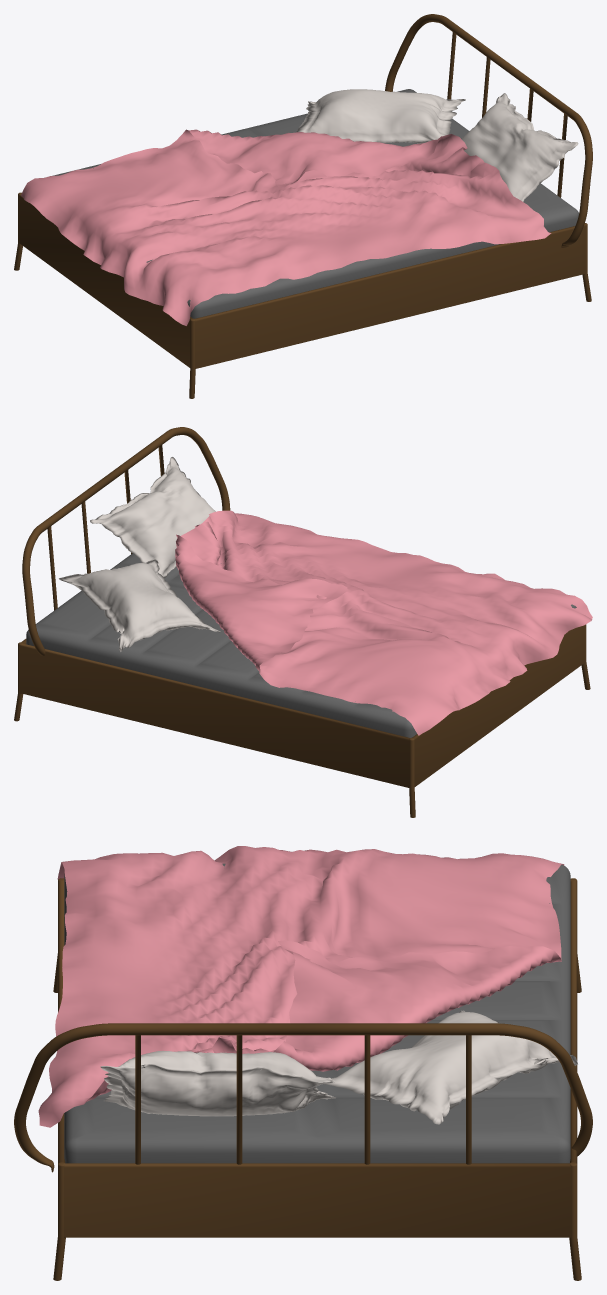
Rendered from bed.gltf.
3 views of the same model, one above another, from view 1: azimuth 30°, elevation 25°; view 2: azimuth 150°, elevation 25°; view 3: azimuth 270°, elevation 25° (orthographic). The views are drawn at different scales.
Parts seen in each view (by area): view 1: Cloth, Base, Cube.003, Pillow_left, Pillow_right, Head; view 2: Cloth, Base, Cube.003, Pillow_left, Pillow_right, Head; view 3: Cloth, Base, Cube.003, Head, Pillow_right, Pillow_left.
Part boxes in pixels (bbox=[...]): Cloth: bbox=[21, 129, 551, 325]; Base: bbox=[14, 192, 591, 398]; Cube.003: bbox=[52, 89, 578, 318]; Pillow_left: bbox=[296, 89, 465, 143]; Pillow_right: bbox=[461, 93, 578, 201]; Head: bbox=[385, 14, 592, 247]; Cloth: bbox=[175, 510, 592, 735]; Base: bbox=[14, 624, 590, 817]; Cube.003: bbox=[26, 553, 576, 737]; Pillow_left: bbox=[59, 559, 220, 651]; Pillow_right: bbox=[90, 457, 215, 577]; Head: bbox=[22, 427, 230, 655]; Cloth: bbox=[38, 846, 564, 1127]; Base: bbox=[53, 878, 581, 1280]; Cube.003: bbox=[64, 863, 570, 1163]; Head: bbox=[14, 1023, 592, 1172]; Pillow_right: bbox=[100, 1050, 335, 1116]; Pillow_left: bbox=[324, 1010, 577, 1124].
Bounding box in the file's own units: 5.47 × 2.15 × 4.38.
